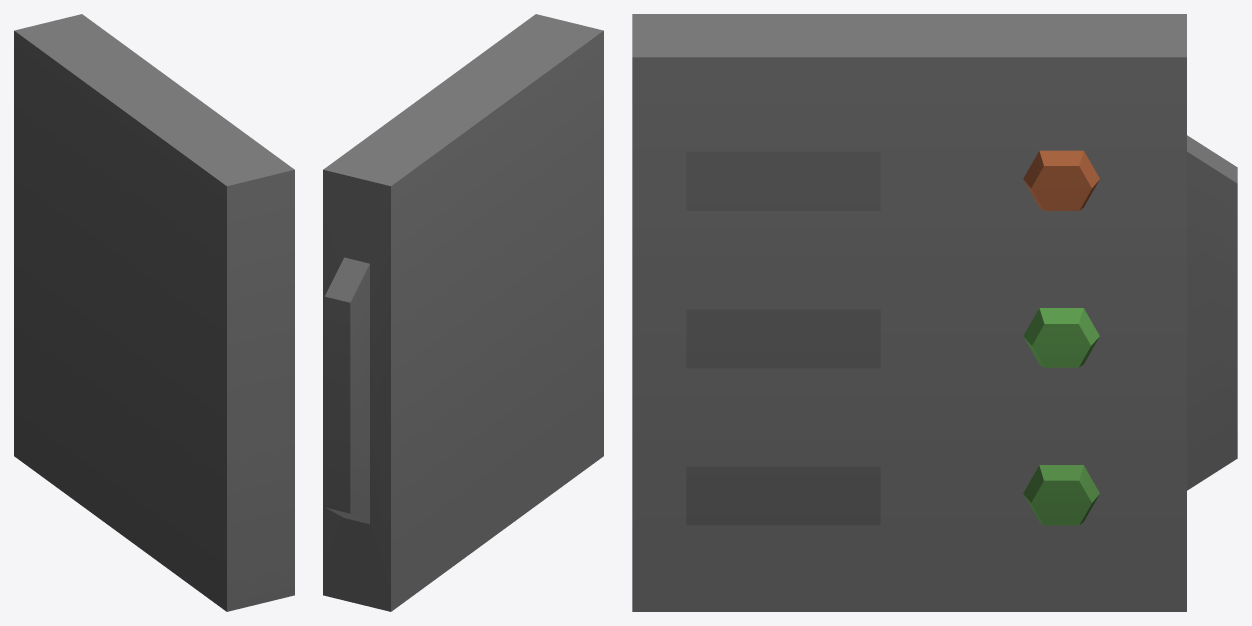
The model's file is OB_Cupboard.fbx.
3 views of the same model, side by side, from view 1: azimuth 30°, elevation 25°; view 2: azimuth 150°, elevation 25°; view 3: azimuth 270°, elevation 25° (orthographic). The views are drawn at different scales.
Visible parts, largest first — view 1: OB_Cupboard; view 2: OB_Cupboard; view 3: OB_Cupboard.
Boxes of the visible parts, box(x1,y1,x2,y2) form: OB_Cupboard: box(14, 14, 294, 611); OB_Cupboard: box(323, 14, 603, 611); OB_Cupboard: box(632, 14, 1237, 611).
Bounding box in the file's own units: 27.37 × 134 × 133.
